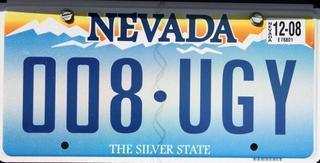placa de veiculo: (5, 3, 316, 160)
